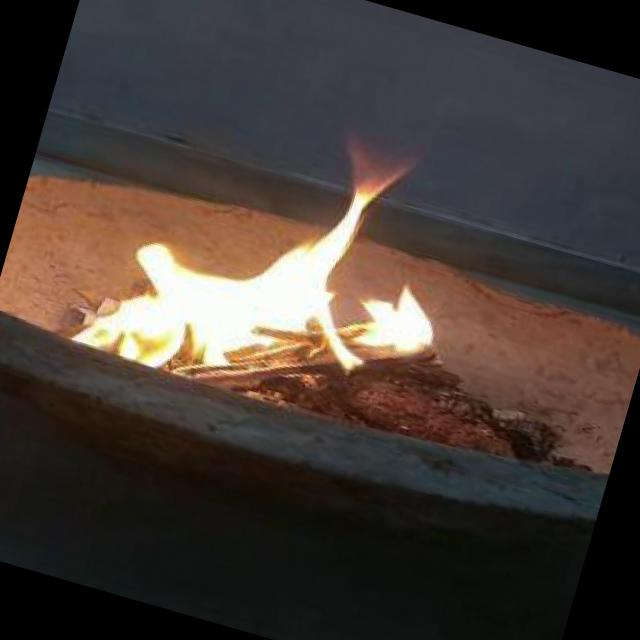fire: (85, 95, 502, 452)
